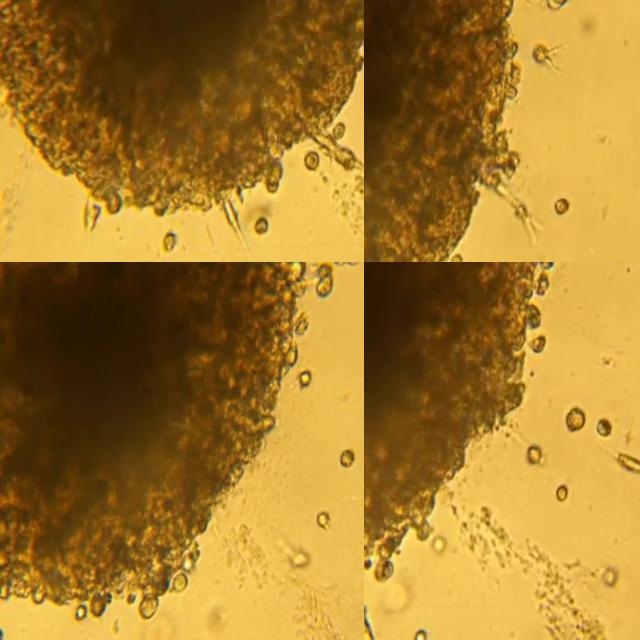cell: (532, 42, 566, 69), (87, 198, 105, 230), (566, 407, 589, 430), (364, 605, 377, 640), (556, 194, 576, 214), (621, 452, 640, 472), (308, 149, 324, 172), (341, 447, 358, 466), (529, 441, 543, 462), (258, 215, 273, 233), (166, 231, 179, 251), (293, 551, 314, 563), (599, 416, 613, 434), (300, 369, 316, 384), (320, 510, 333, 527), (417, 627, 431, 640), (559, 484, 571, 499), (546, 0, 564, 9), (454, 253, 465, 262)
tumor_mass: (364, 262, 554, 581), (364, 0, 552, 262)
